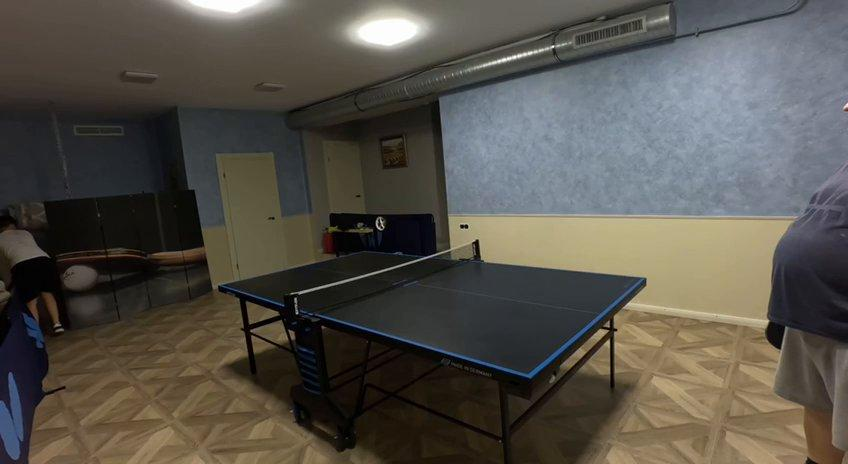Net: (285, 240, 480, 325)
Player1: (0, 211, 63, 333)
Player2: (766, 163, 847, 463)
Table: (221, 251, 644, 378)
